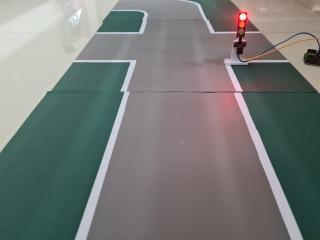red: (233, 10, 251, 46)
